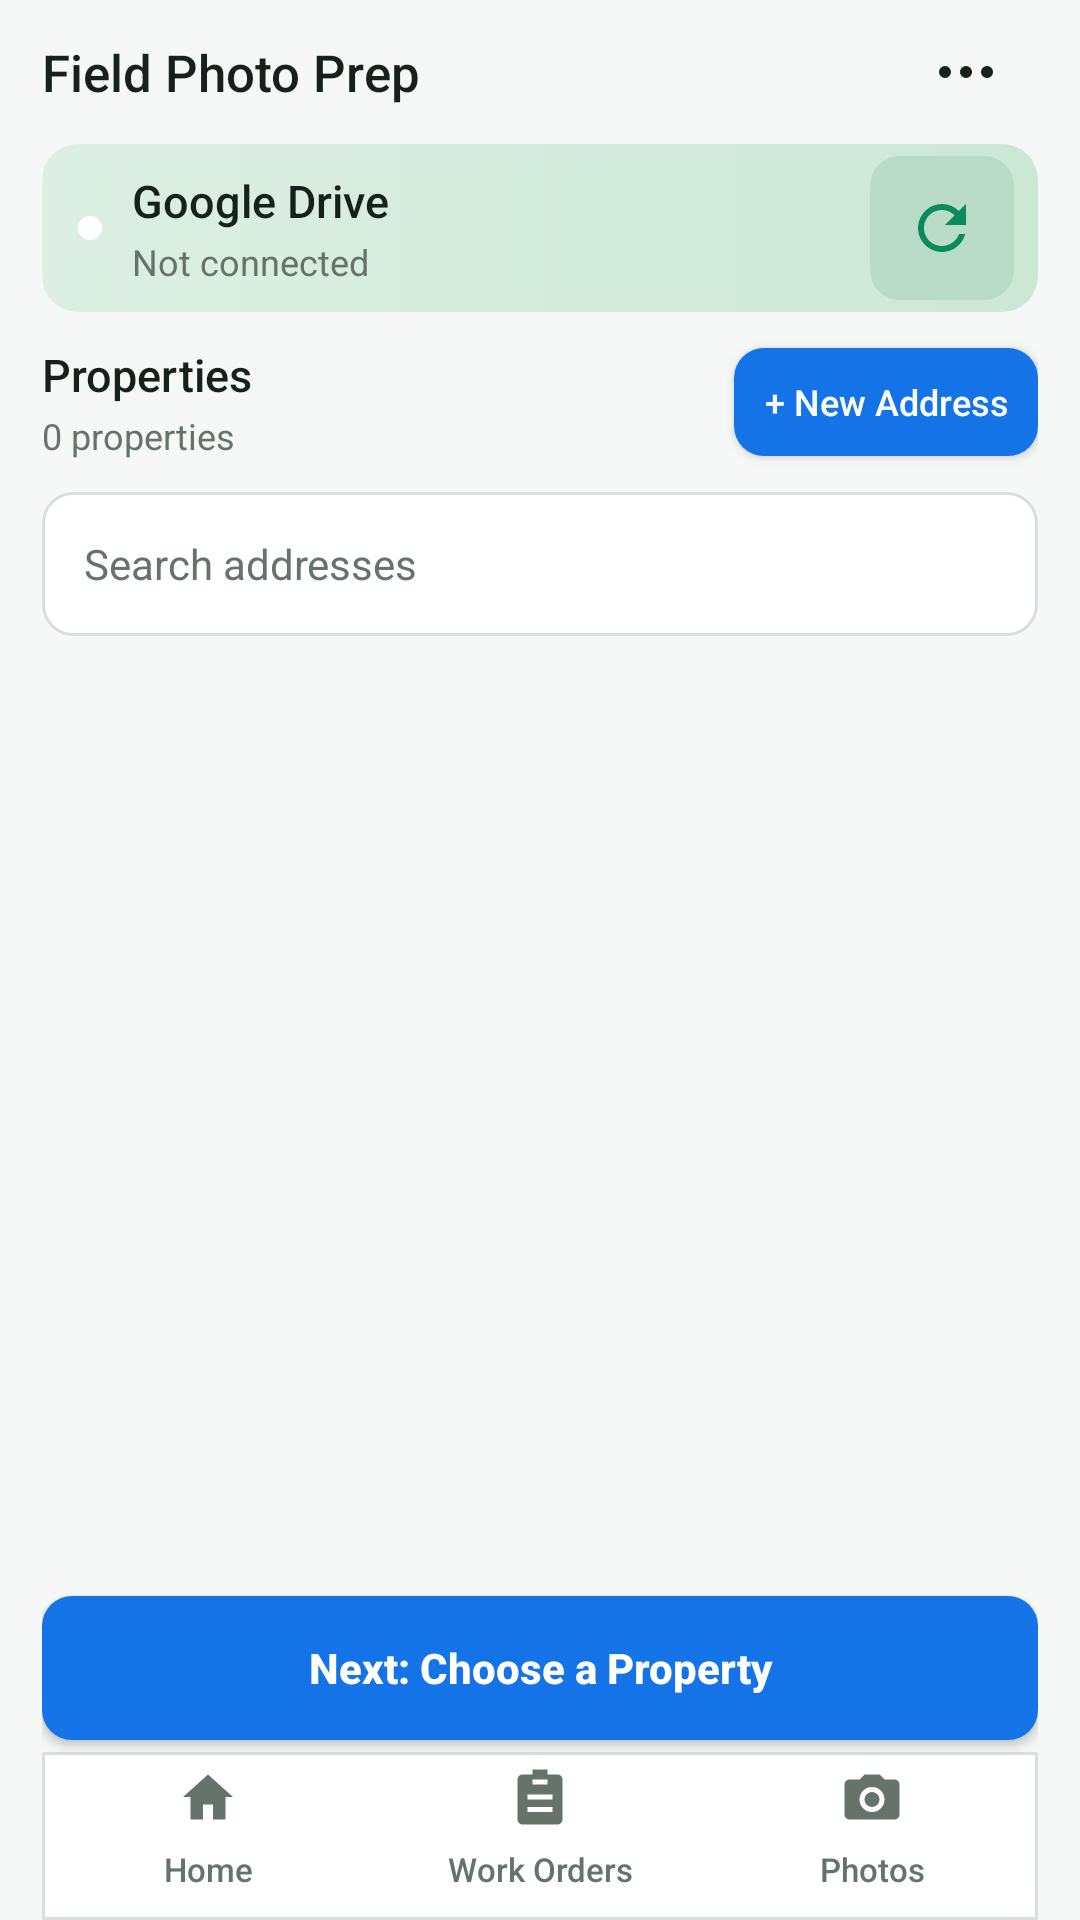

Where icons sit on this 1080x1920 app screen, as [x1=x1, y1=y1, x2=x2, y2=y2]:
Refresh properties: [x1=870, y1=156, x2=1014, y2=300]
Storage options: [x1=939, y1=66, x2=993, y2=78]
